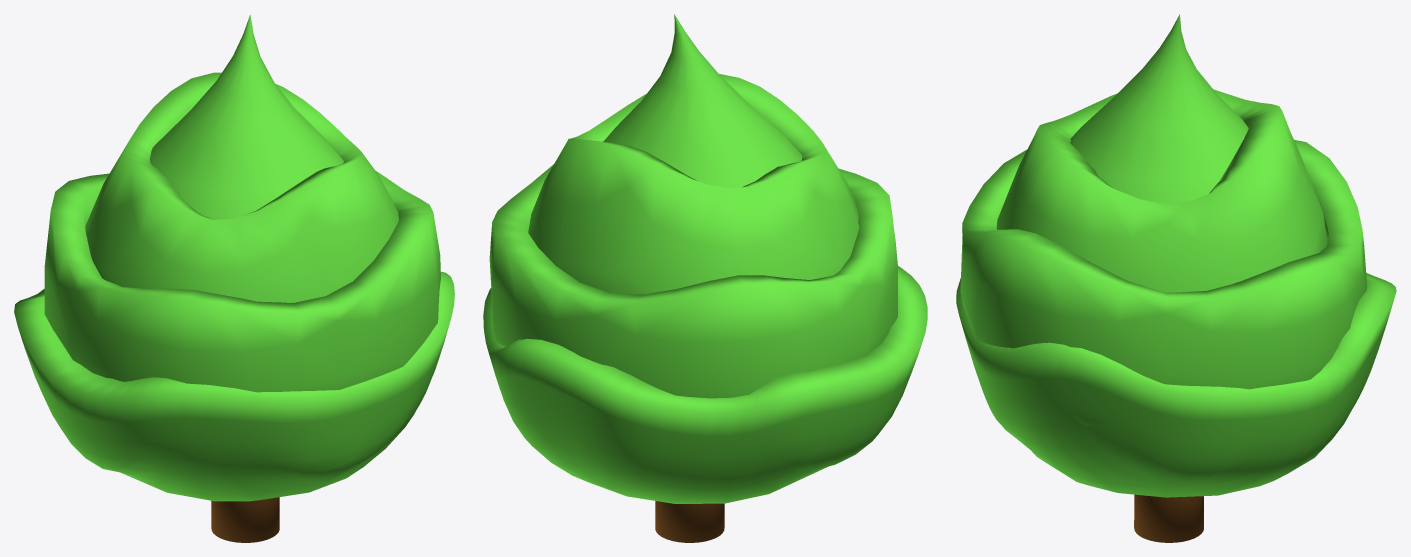
The model's file is tree3.glb.
3 renders of one model, left to right at view 1: azimuth 30°, elevation 25°; view 2: azimuth 150°, elevation 25°; view 3: azimuth 270°, elevation 25°, orthographic. The views are drawn at different scales.
Visible parts, largest first — view 1: tree3; view 2: tree3; view 3: tree3.
Boxes of the visible parts, <box> form: tree3: <box>14,15,454,542</box>; tree3: <box>483,14,927,542</box>; tree3: <box>956,14,1396,542</box>.
Size of the model in its own units: 3.78 by 4.89 by 3.76.
